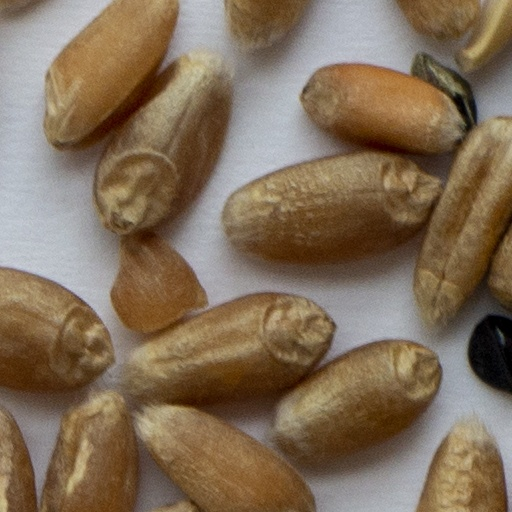Wheat-grain-damaged-poly: (107, 231, 210, 334)
